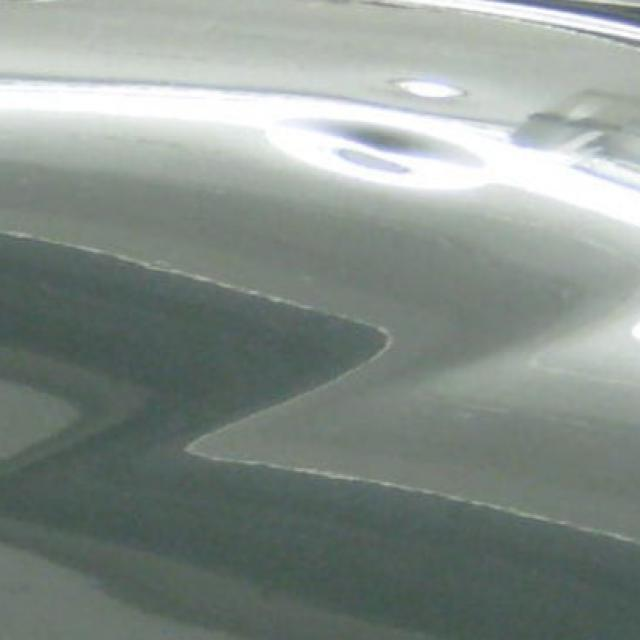dents: (276, 99, 478, 207), (393, 48, 493, 126)
